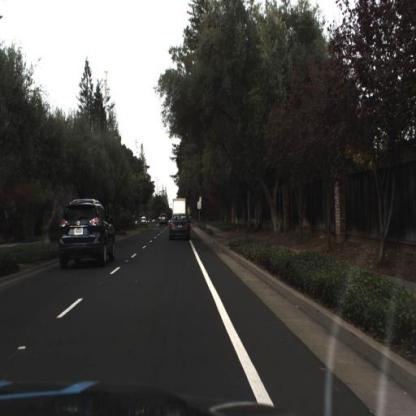car: (58, 197, 118, 274), (167, 211, 197, 244), (158, 210, 171, 231)
truck: (171, 196, 190, 220)
